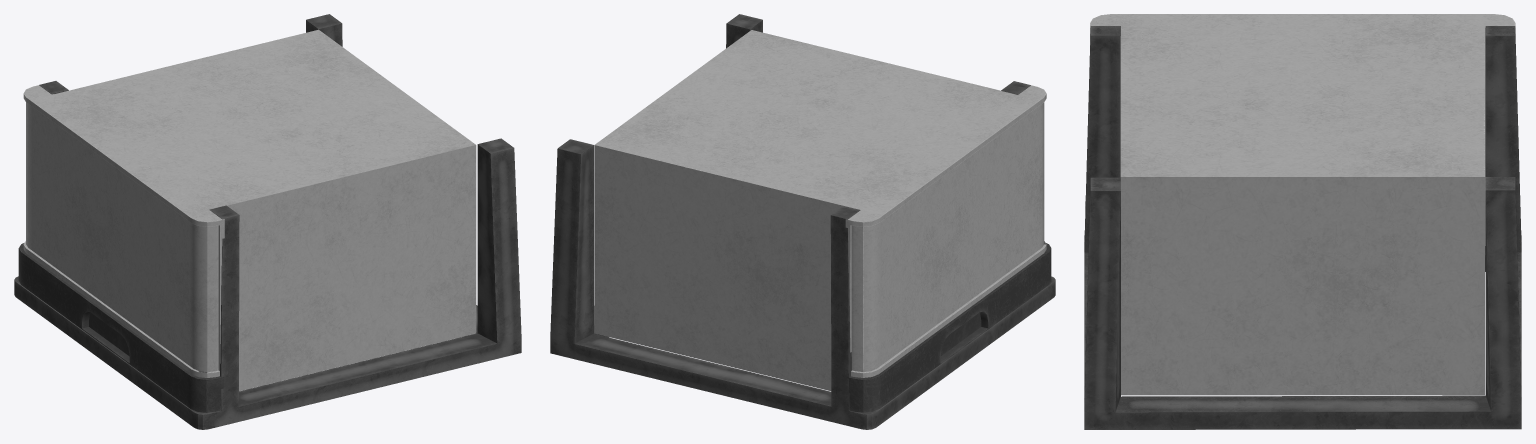
File: cupboardMiddle.fbx
3 views of the same model, side by side, from view 1: azimuth 30°, elevation 25°; view 2: azimuth 150°, elevation 25°; view 3: azimuth 270°, elevation 25° (orthographic). The views are drawn at different scales.
Visible parts, largest first — view 1: cupboard2; view 2: cupboard2; view 3: cupboard2.
Boxes of the visible parts, x1,y1,x2,y2 form: cupboard2: (14, 14, 521, 429); cupboard2: (550, 14, 1055, 429); cupboard2: (1084, 14, 1521, 429).
Size of the model in its own units: 103 by 62.58 by 105.
2 materials, 2 textured.
